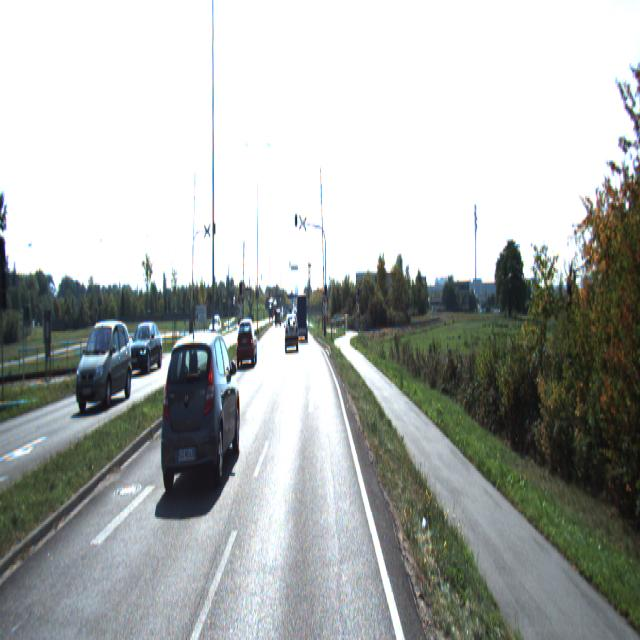Car: (159, 317, 240, 501), (75, 316, 133, 412), (126, 322, 163, 376), (235, 320, 258, 370), (285, 313, 298, 349)
DontCare: (265, 292, 282, 334)
Van: (296, 294, 308, 342)
